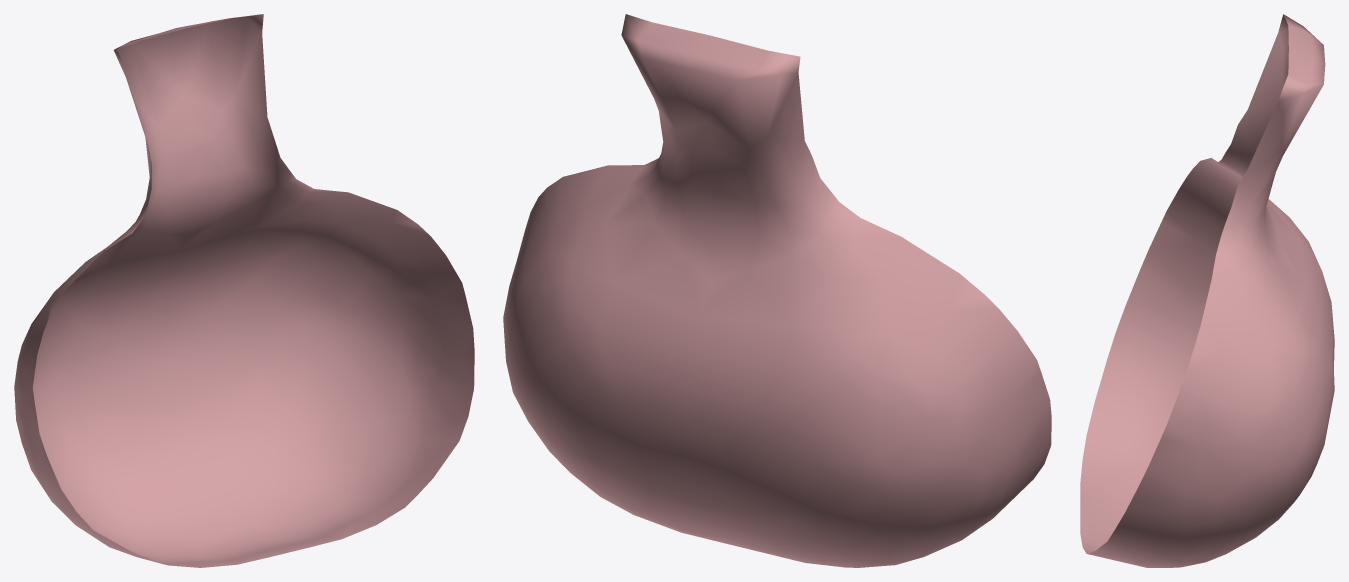
3 views of the same model, side by side, from view 1: azimuth 30°, elevation 25°; view 2: azimuth 150°, elevation 25°; view 3: azimuth 270°, elevation 25° (orthographic). The views are drawn at different scales.
Parts seen in each view (by area): view 1: ZA_2b7863a585e22e4c; view 2: ZA_2b7863a585e22e4c; view 3: ZA_2b7863a585e22e4c.
Part boxes in pixels (x1=…): ZA_2b7863a585e22e4c: x1=14, y1=14, x2=474, y2=567; ZA_2b7863a585e22e4c: x1=503, y1=14, x2=1051, y2=567; ZA_2b7863a585e22e4c: x1=1080, y1=14, x2=1334, y2=567.
Bounding box in the file's own units: 0.0117 × 0.0121 × 0.00582.
